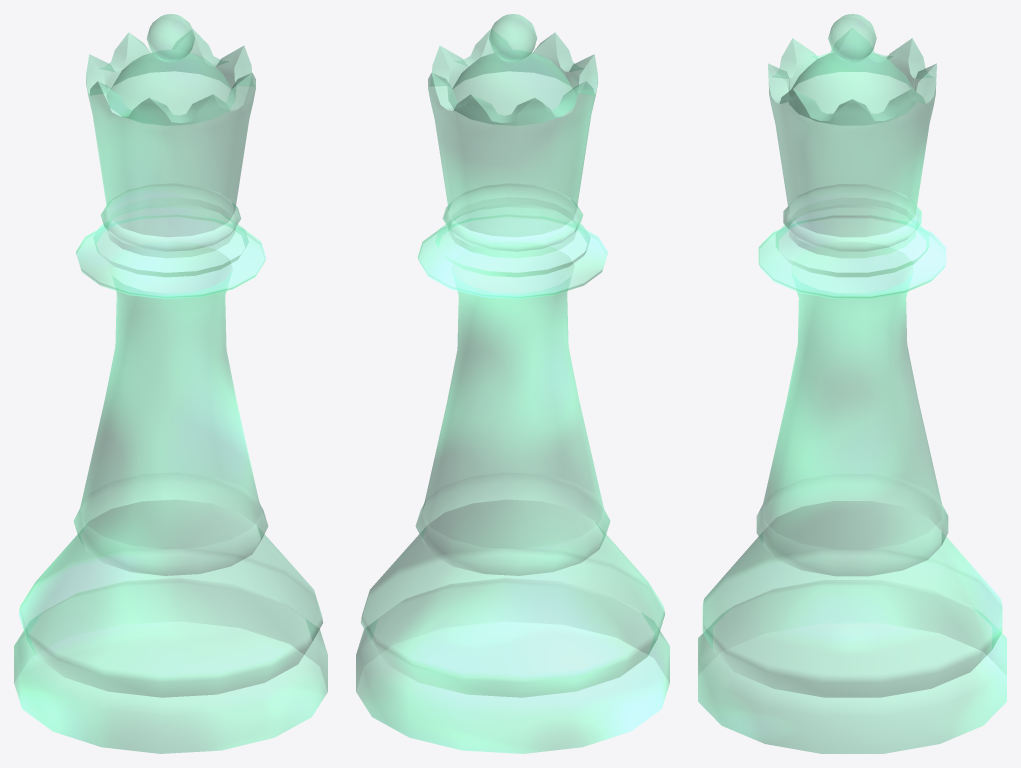
The model's file is item-4-13.glb.
The picture shows the model from 3 angles, left to right: view 1: azimuth 30°, elevation 25°; view 2: azimuth 150°, elevation 25°; view 3: azimuth 270°, elevation 25°; orthographic projection.
Parts seen in each view (by area): view 1: BlackQueen; view 2: BlackQueen; view 3: BlackQueen.
Boxes of the visible parts, x1,y1,x2,y2 form: BlackQueen: (14, 14, 327, 753); BlackQueen: (356, 14, 669, 753); BlackQueen: (698, 14, 1006, 753).
Size of the model in its own units: 0.0968 by 0.2326 by 0.0968.
